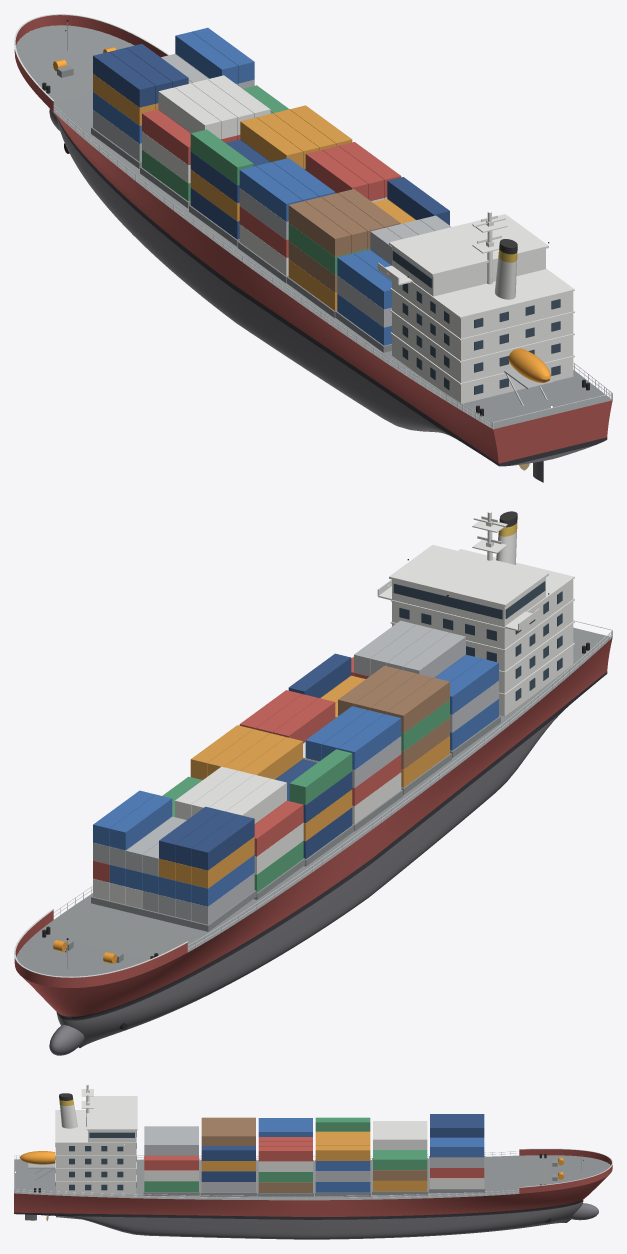
File: container_700teu.glb
The picture shows the model from 3 angles, top to bottom: view 1: azimuth 30°, elevation 25°; view 2: azimuth 150°, elevation 25°; view 3: azimuth 270°, elevation 25°; orthographic projection. The views are drawn at different scales.
Parts seen in each view (by area): view 1: cargo, hull, superstructure, deck_fittings; view 2: cargo, hull, superstructure, deck_fittings, hull_appendages; view 3: hull, cargo, superstructure, deck_fittings, hull_appendages.
Part boxes in pixels (<box>): cargo: <box>91,27,451,352</box>; hull: <box>16,25,612,466</box>; superstructure: <box>65,20,574,405</box>; deck_fittings: <box>14,14,612,429</box>; cargo: <box>91,620,500,931</box>; hull: <box>16,627,612,1047</box>; superstructure: <box>65,511,574,968</box>; deck_fittings: <box>14,620,612,987</box>; hull_appendages: <box>49,1022,128,1055</box>; hull: <box>14,1155,610,1239</box>; cargo: <box>143,1114,485,1196</box>; superstructure: <box>20,1084,583,1194</box>; deck_fittings: <box>14,1148,612,1199</box>; hull_appendages: <box>55,1203,598,1223</box>.
Size of the model in its own units: 21.44 by 34.2 by 134.
